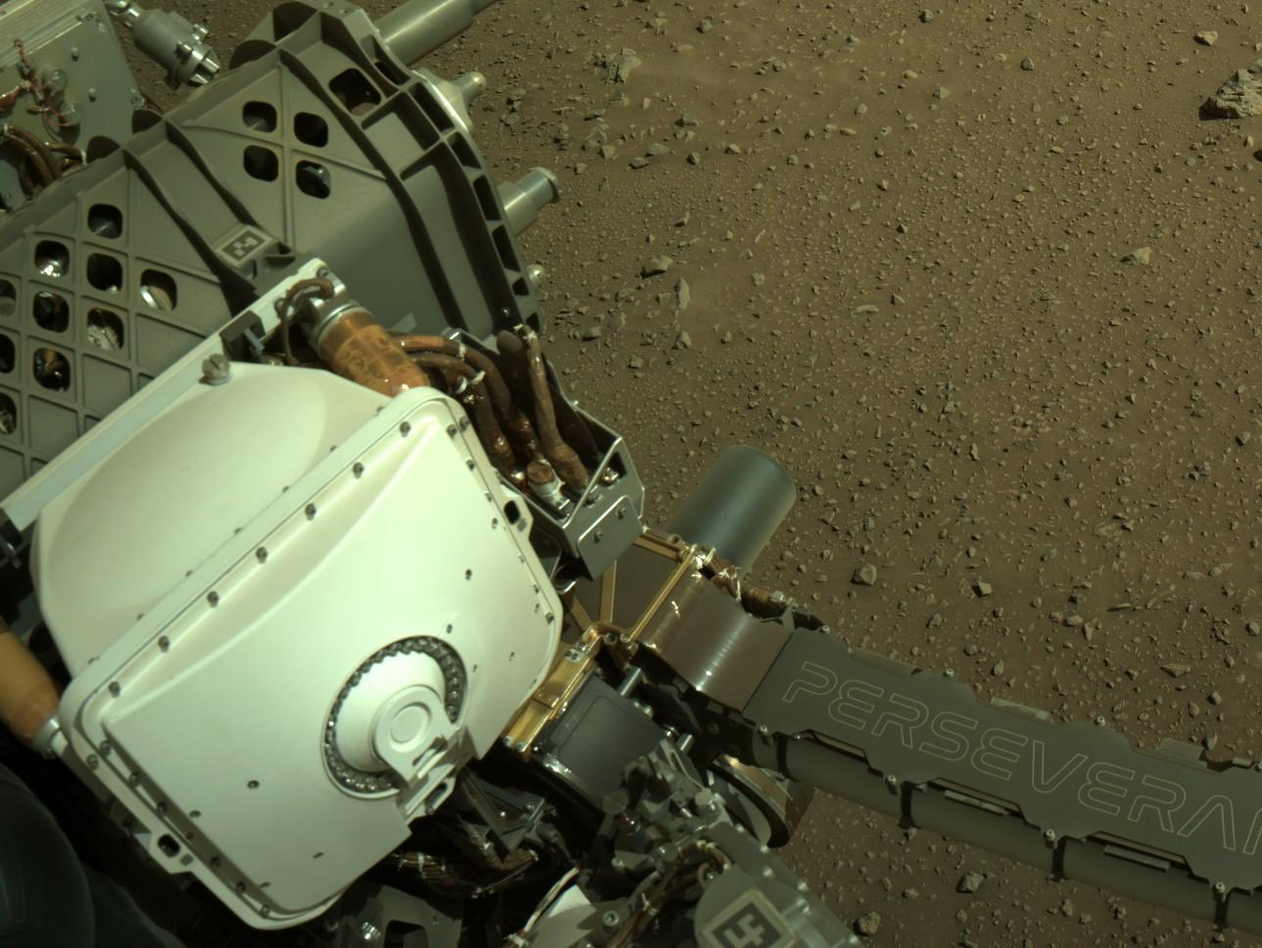soil: (379, 4, 1260, 945)
